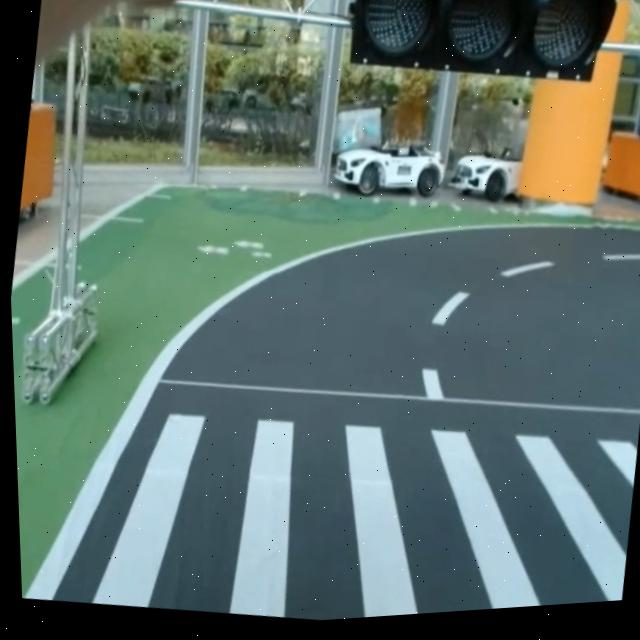traffic-light: (338, 0, 631, 103)
